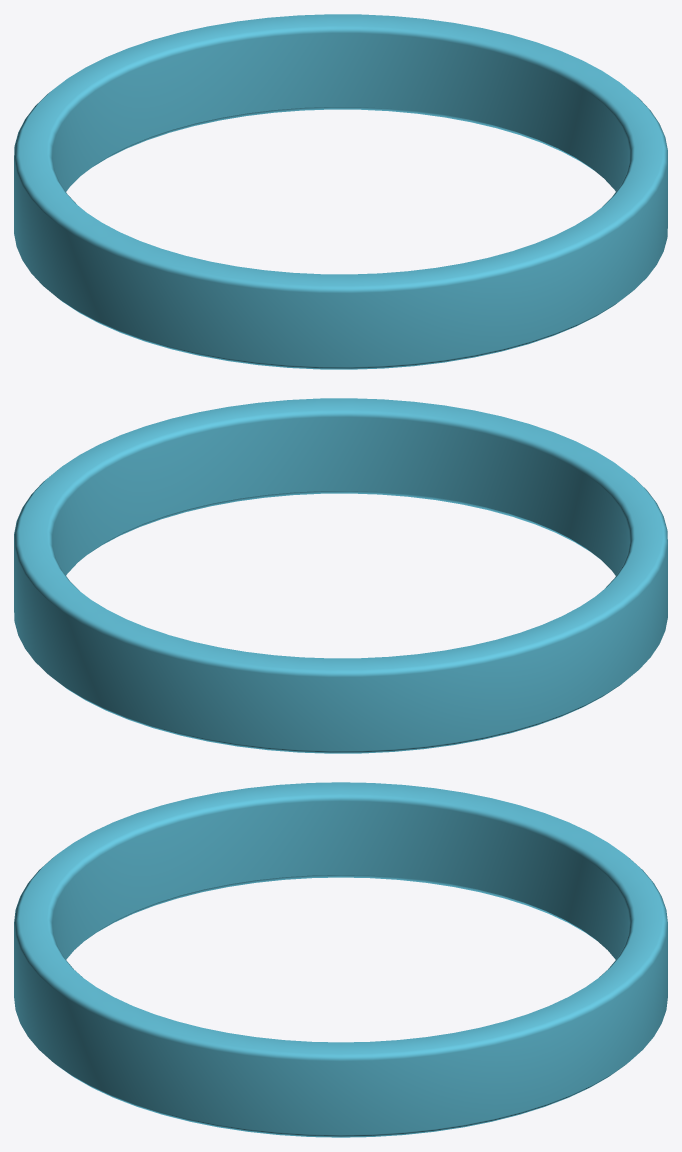
3 views of the same model, one above another, from view 1: azimuth 30°, elevation 25°; view 2: azimuth 150°, elevation 25°; view 3: azimuth 270°, elevation 25° (orthographic).
Parts seen in each view (by area): view 1: seal_body; view 2: seal_body; view 3: seal_body.
Boxes of the visible parts, <box> form: seal_body: <box>14,14,667,369</box>; seal_body: <box>14,398,667,753</box>; seal_body: <box>14,782,667,1137</box>.
Size of the model in its own units: 0.085 by 0.012 by 0.085.
